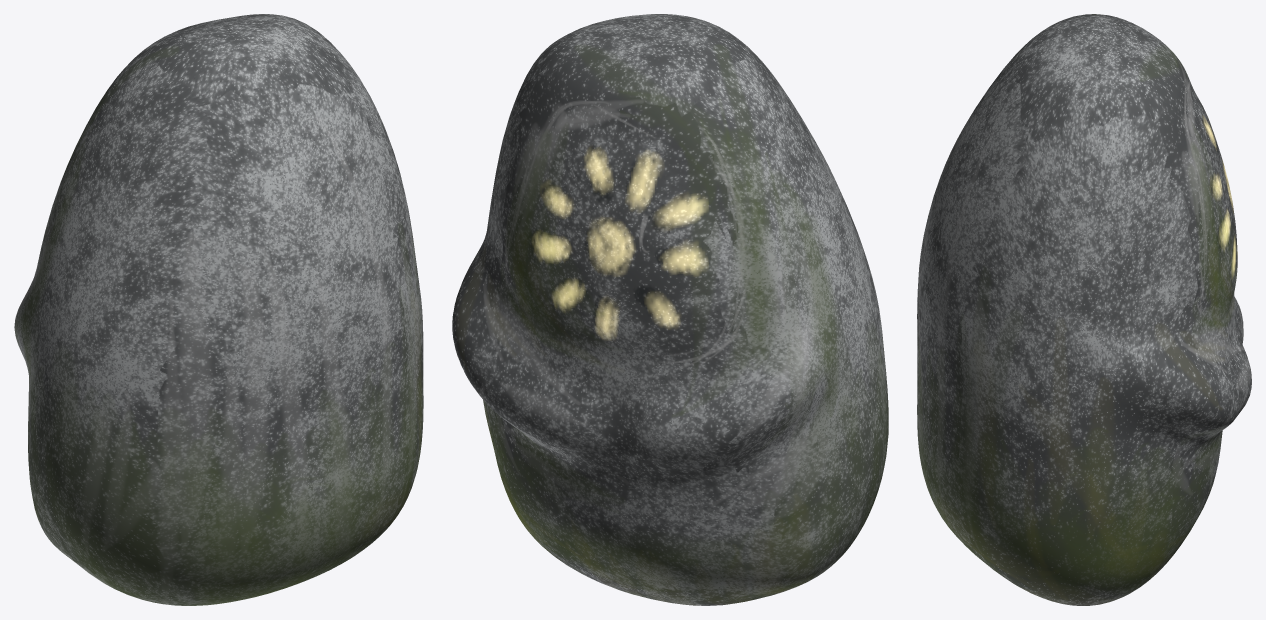
Rendered from monolit.glb.
The picture shows the model from 3 angles, left to right: view 1: azimuth 30°, elevation 25°; view 2: azimuth 150°, elevation 25°; view 3: azimuth 270°, elevation 25°; orthographic projection. The views are drawn at different scales.
Visible parts, largest first — view 1: monolit-col; view 2: monolit-col; view 3: monolit-col.
Boxes of the visible parts, x1,y1,x2,y2 form: monolit-col: (14,14,423,605); monolit-col: (452,14,888,605); monolit-col: (917,14,1251,605).
Bounding box in the file's own units: 3.43 × 4.99 × 2.76.
Materials: 1 (1 with a texture image).
